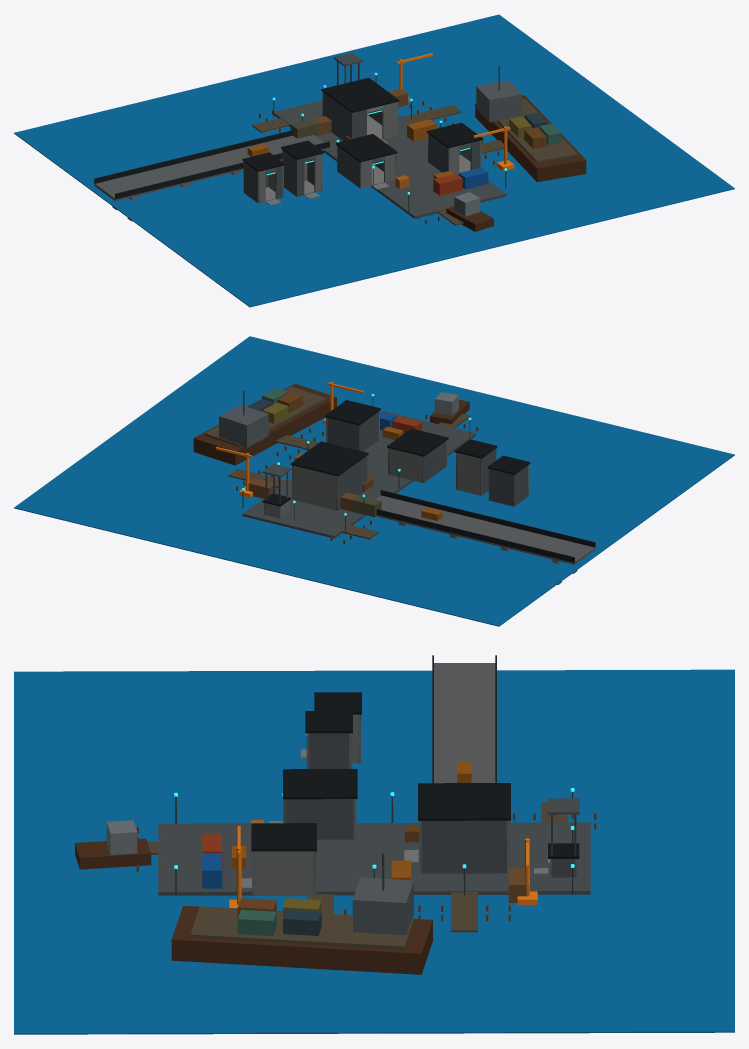
The model's file is Docks.glb.
The picture shows the model from 3 angles, top to bottom: view 1: azimuth 30°, elevation 25°; view 2: azimuth 150°, elevation 25°; view 3: azimuth 270°, elevation 25°; orthographic projection. The views are drawn at different scales.
Visible parts, largest first — view 1: Water, IslandTowerA_Front-1, Bridge, BridgeRail13.5, Container0, Container2, Container1, Container3; view 2: Water, IslandTowerA_Front-1, Bridge, BridgeRail13.5, Container0, Container2, Container1; view 3: Water, IslandTowerA_Front-1, Bridge, BridgeRail13.5, Container0, Container2, Container3, Container1.
Part boxes in pixels (x1=…): Water: x1=14, y1=14, x2=734, y2=307; IslandTowerA_Front-1: x1=243, y1=53, x2=577, y2=225; Bridge: x1=94, y1=66, x2=481, y2=221; BridgeRail13.5: x1=94, y1=77, x2=483, y2=199; Container0: x1=290, y1=95, x2=586, y2=231; Container2: x1=247, y1=53, x2=531, y2=178; Container1: x1=312, y1=89, x2=561, y2=144; Container3: x1=458, y1=113, x2=547, y2=189; Water: x1=14, y1=336, x2=734, y2=626; IslandTowerA_Front-1: x1=204, y1=386, x2=528, y2=539; Bridge: x1=264, y1=411, x2=595, y2=584; BridgeRail13.5: x1=262, y1=400, x2=595, y2=562; Container0: x1=193, y1=383, x2=469, y2=517; Container2: x1=215, y1=382, x2=442, y2=520; Container1: x1=248, y1=388, x2=357, y2=511; Water: x1=14, y1=669, x2=734, y2=1034; IslandTowerA_Front-1: x1=106, y1=714, x2=590, y2=949; Bridge: x1=241, y1=663, x2=577, y2=895; BridgeRail13.5: x1=251, y1=655, x2=579, y2=858; Container0: x1=75, y1=820, x2=432, y2=974; Container2: x1=229, y1=761, x2=537, y2=917; Container3: x1=202, y1=853, x2=321, y2=935; Container1: x1=237, y1=868, x2=528, y2=935.
Size of the model in its own units: 95 by 15.38 by 80.
